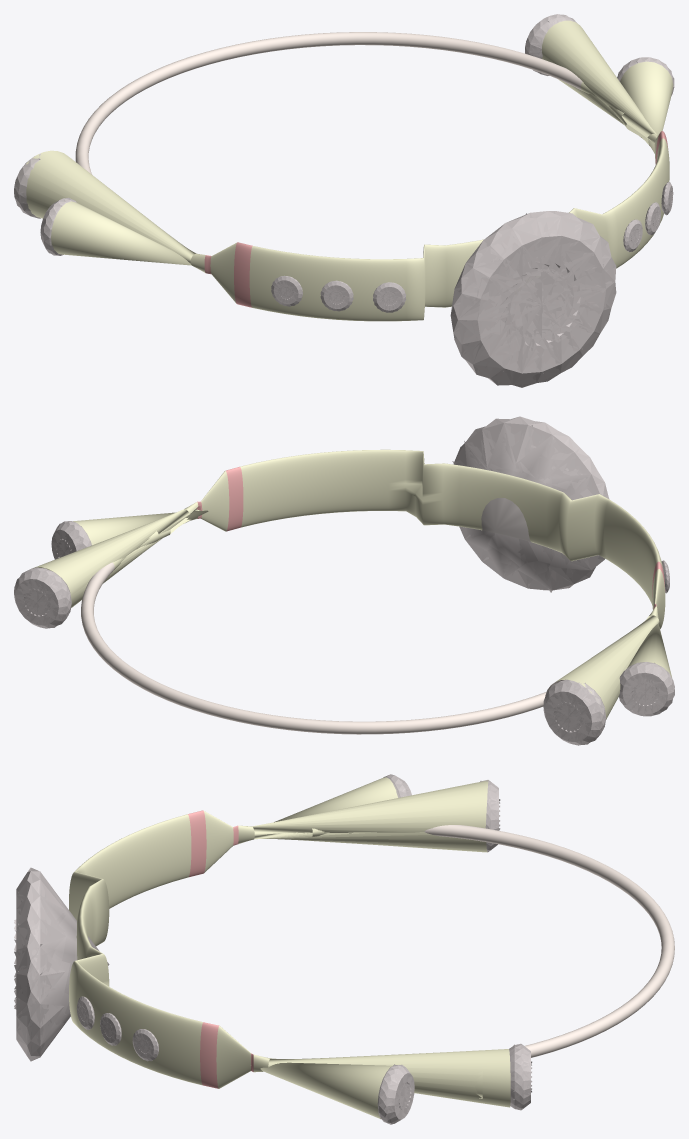
The model's file is ring2.glb.
3 renders of one model, top to bottom at view 1: azimuth 30°, elevation 25°; view 2: azimuth 150°, elevation 25°; view 3: azimuth 270°, elevation 25°, orthographic. The views are drawn at different scales.
Parts seen in each view (by area): view 1: pTorus1, pasted__pasted__pCone3 (×3), pCone1, pasted__pasted__pCone1, pasted__pasted__pasted__pasted__pCone3 (×2), pasted__pasted__pasted__pasted__pasted__pCone3_anisotropic1_, pasted__pasted__pasted__pasted__pasted__pasted__pCone3_aniso; view 2: pTorus1, pasted__pasted__pCone3 (×3), pasted__pasted__pasted__pasted__pCone3, pasted__pasted__pCone1, pasted__pasted__pasted__pCone3, pCone1; view 3: pTorus1, pasted__pasted__pCone3 (×3), pasted__pasted__pCone1, pasted__pasted__pasted__pCone3 (×2), pCone1, pasted__pasted__pasted__pasted__pCone3.
Part boxes in pixels (x1,y1,x2,y2): pTorus1: (26, 20, 669, 321); pasted__pasted__pCone3 (×3): (14, 14, 616, 387); pCone1: (51, 201, 191, 265); pasted__pasted__pCone1: (620, 61, 673, 153); pasted__pasted__pasted__pasted__pCone3 (×2): (40, 197, 353, 311); pasted__pasted__pasted__pasted__pasted__pCone3_anisotropic1_: (373, 282, 406, 312); pasted__pasted__pasted__pasted__pasted__pasted__pCone3_aniso: (271, 275, 302, 306); pTorus1: (30, 449, 665, 734); pasted__pasted__pCone3 (×3): (14, 416, 609, 745); pasted__pasted__pasted__pasted__pCone3: (618, 662, 674, 716); pasted__pasted__pCone1: (73, 510, 208, 545); pasted__pasted__pasted__pCone3: (51, 521, 91, 559); pCone1: (627, 624, 671, 677); pTorus1: (69, 780, 674, 1107); pasted__pasted__pCone3 (×3): (14, 780, 532, 1110); pasted__pasted__pCone1: (260, 1062, 392, 1118); pasted__pasted__pasted__pCone3 (×2): (100, 1013, 414, 1124); pCone1: (274, 777, 398, 822); pasted__pasted__pasted__pasted__pCone3: (132, 1029, 158, 1061).
Size of the model in its own units: 6.03 by 1.56 by 5.37.
